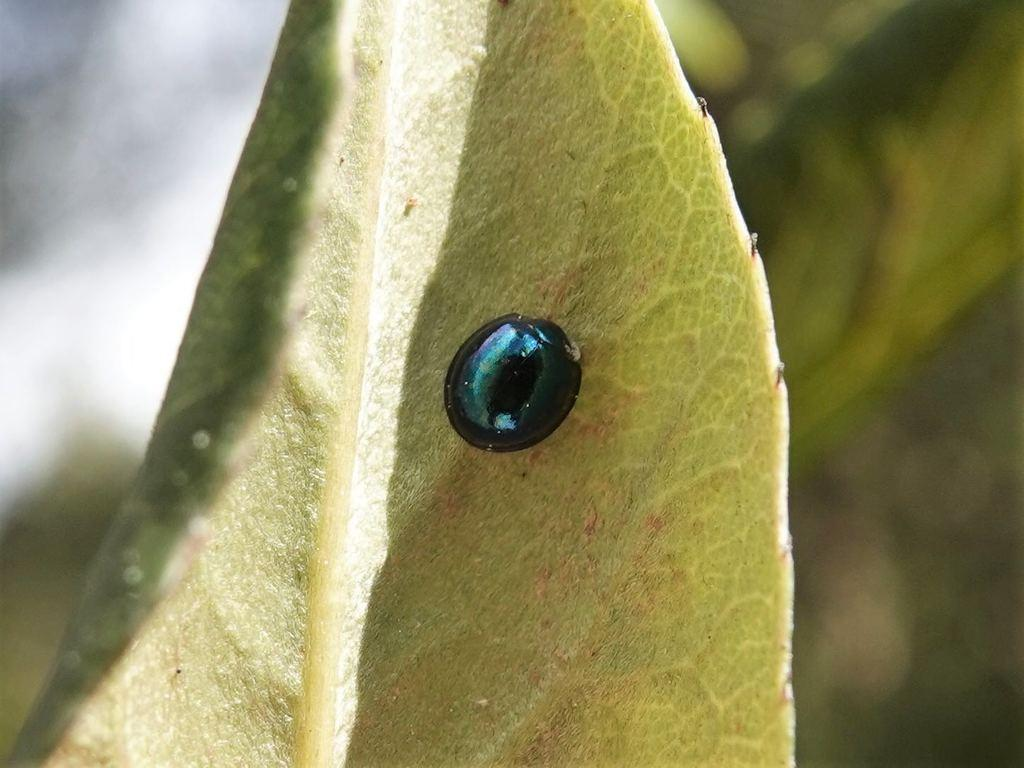ladybug: (441, 309, 591, 457)
